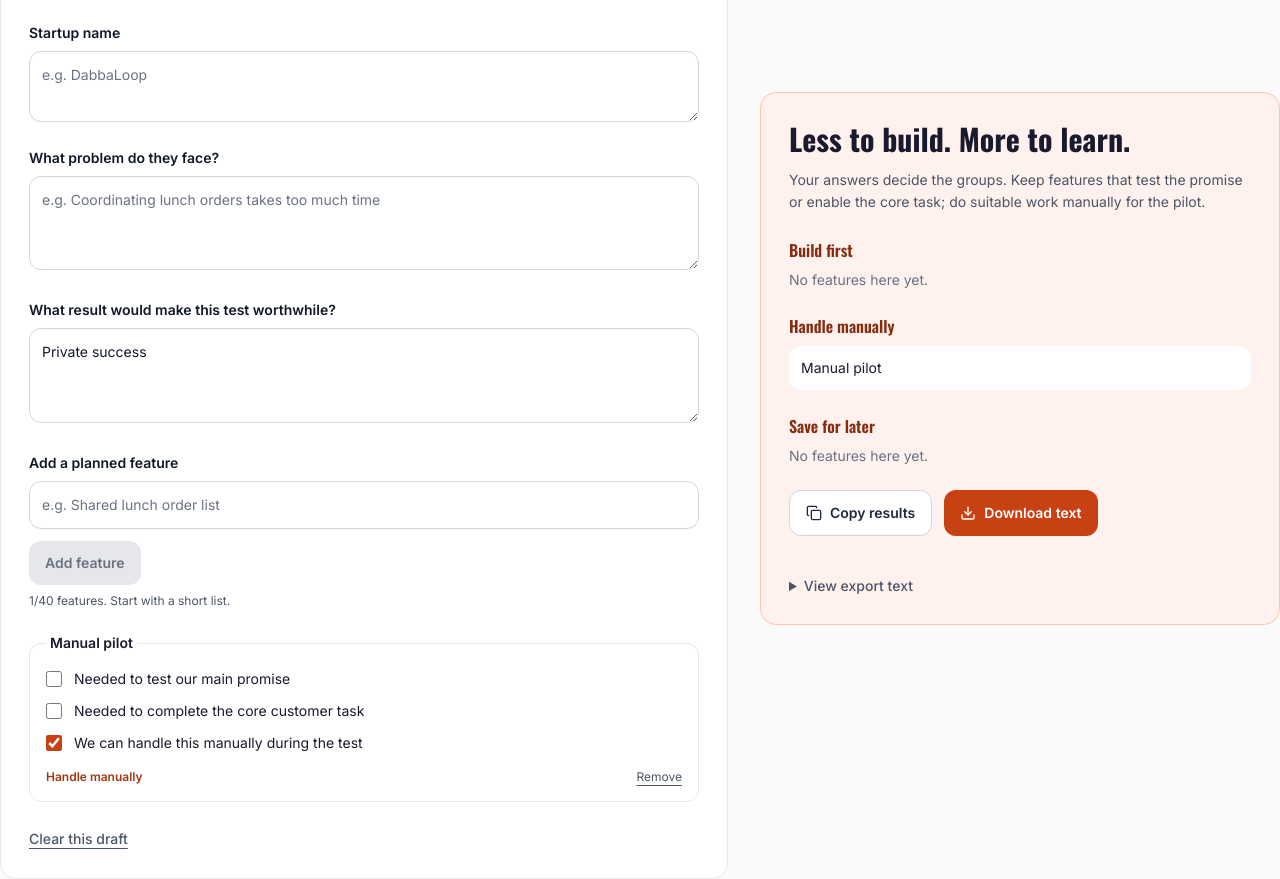
Test: clears an MVP result and ticks without resurrecting them on a fresh mount
(page scrolled)
Click the button "Clear this draft".
click(78, 839)  # box [29,829,128,849]
(page scrolled)
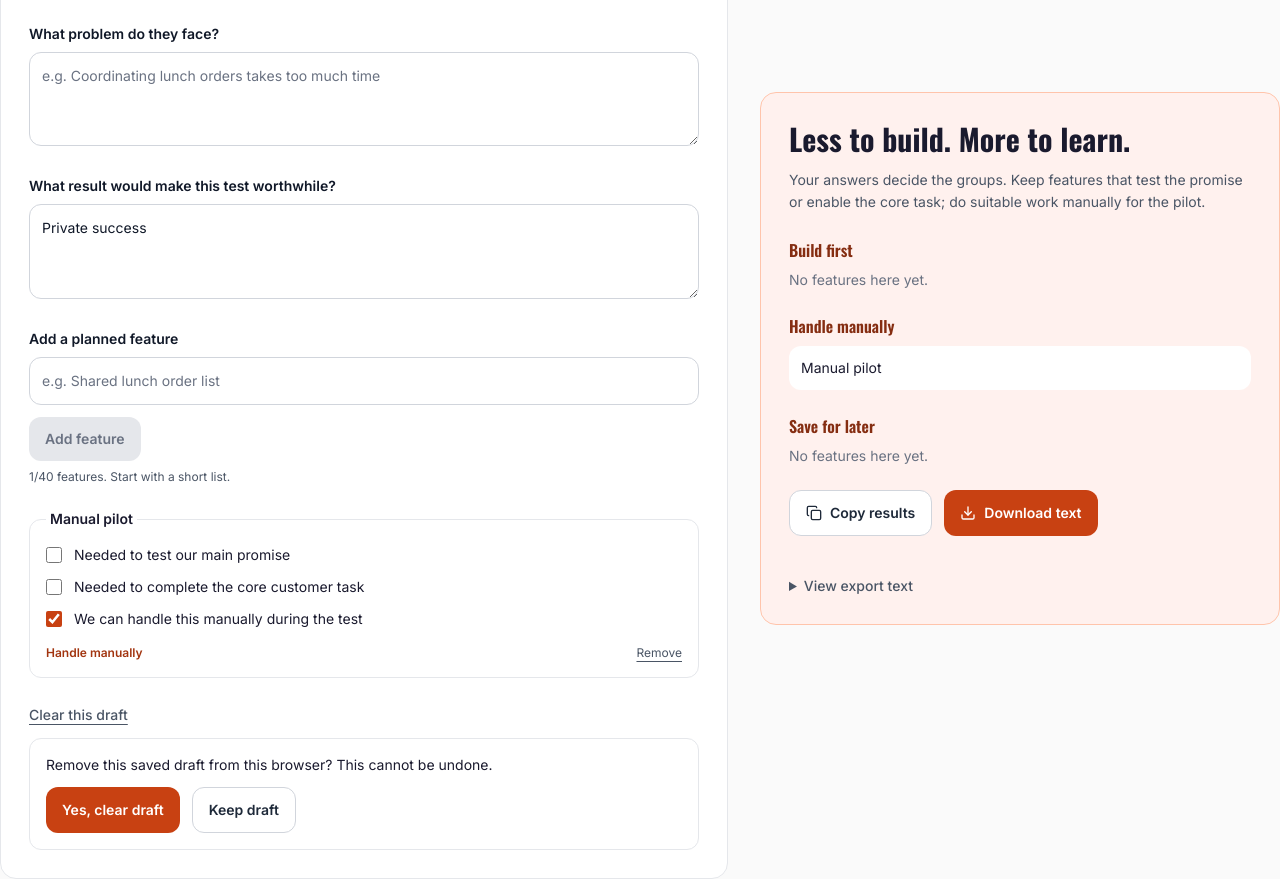
Click the button "Yes, clear draft".
click(113, 810)  # box [46,787,180,833]
(page scrolled)
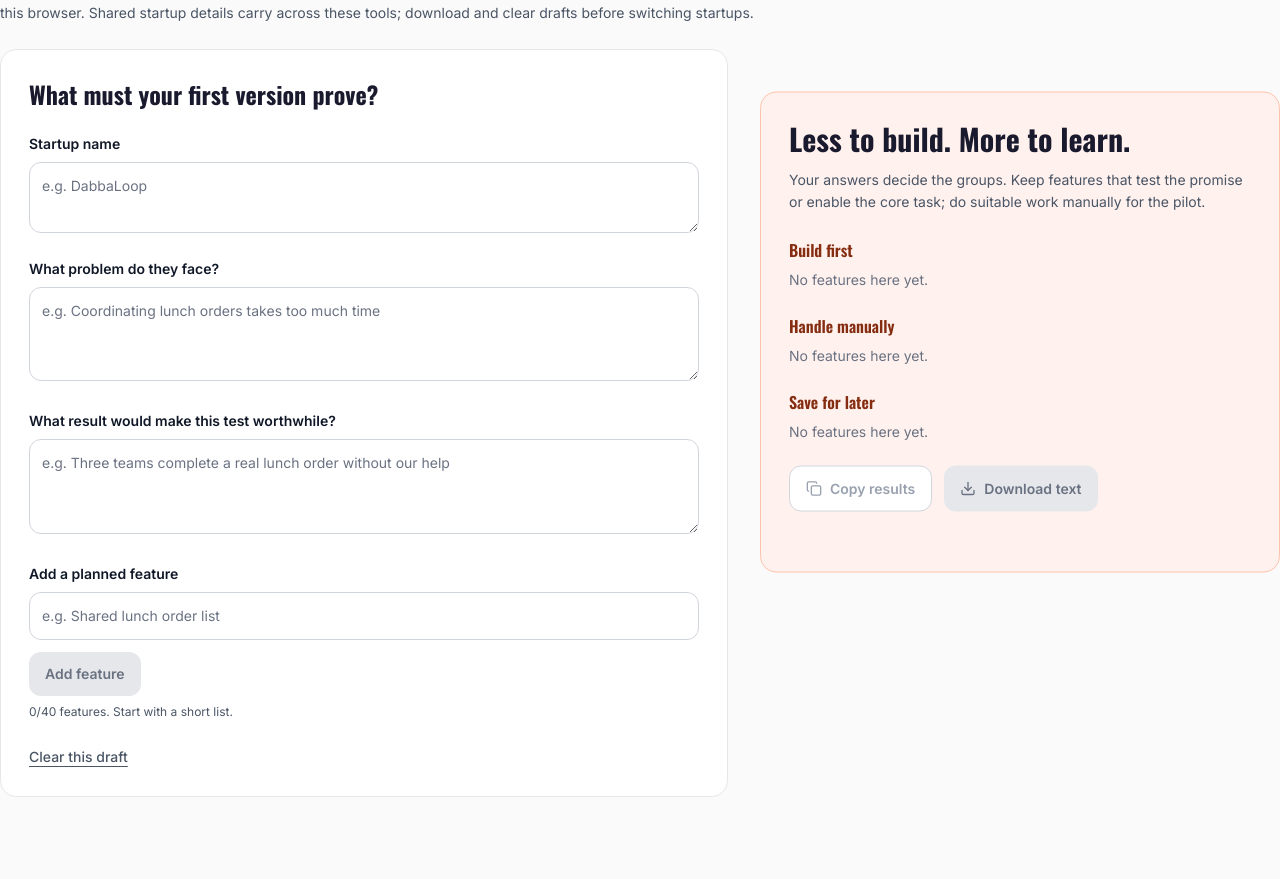
Expected: the text "Manual pilot" is gone
